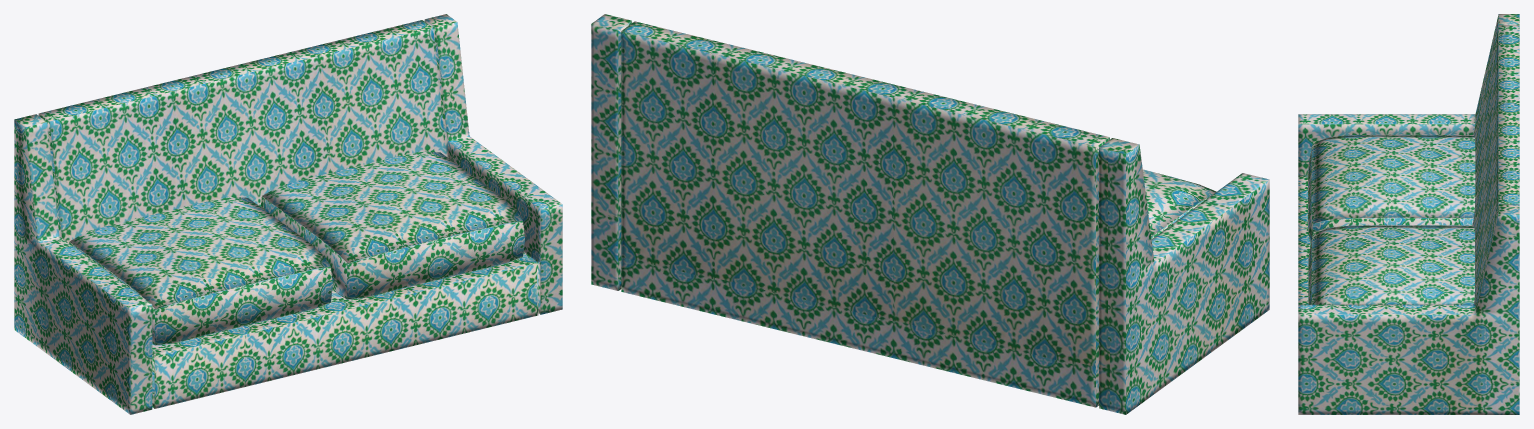
The model's file is sofa_2.fbx.
The picture shows the model from 3 angles, left to right: view 1: azimuth 30°, elevation 25°; view 2: azimuth 150°, elevation 25°; view 3: azimuth 270°, elevation 25°; orthographic projection. The views are drawn at different scales.
Parts seen in each view (by area): view 1: CouchFrame, Cube.001, Cube.000; view 2: CouchFrame, Cube.000; view 3: CouchFrame, Cube.000, Cube.001.
Part boxes in pixels (left/top/right/bottom): CouchFrame: left=14, top=14, right=562, bottom=414; Cube.001: left=261, top=151, right=524, bottom=299; Cube.000: left=69, top=197, right=332, bottom=345; CouchFrame: left=591, top=14, right=1269, bottom=414; Cube.000: left=1142, top=169, right=1216, bottom=238; CouchFrame: left=1298, top=14, right=1519, bottom=414; Cube.000: left=1308, top=134, right=1475, bottom=244; Cube.001: left=1308, top=225, right=1474, bottom=304.
Bounding box in the file's own units: 0.7959 × 0.3706 × 0.3705.
